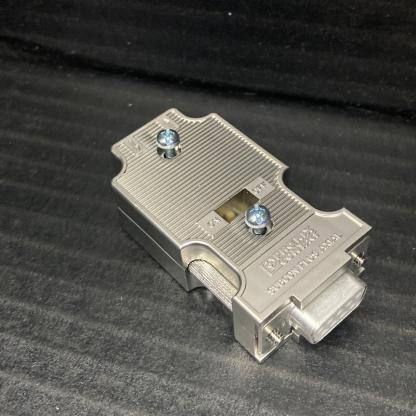SP0000010: (89, 78, 396, 387)
